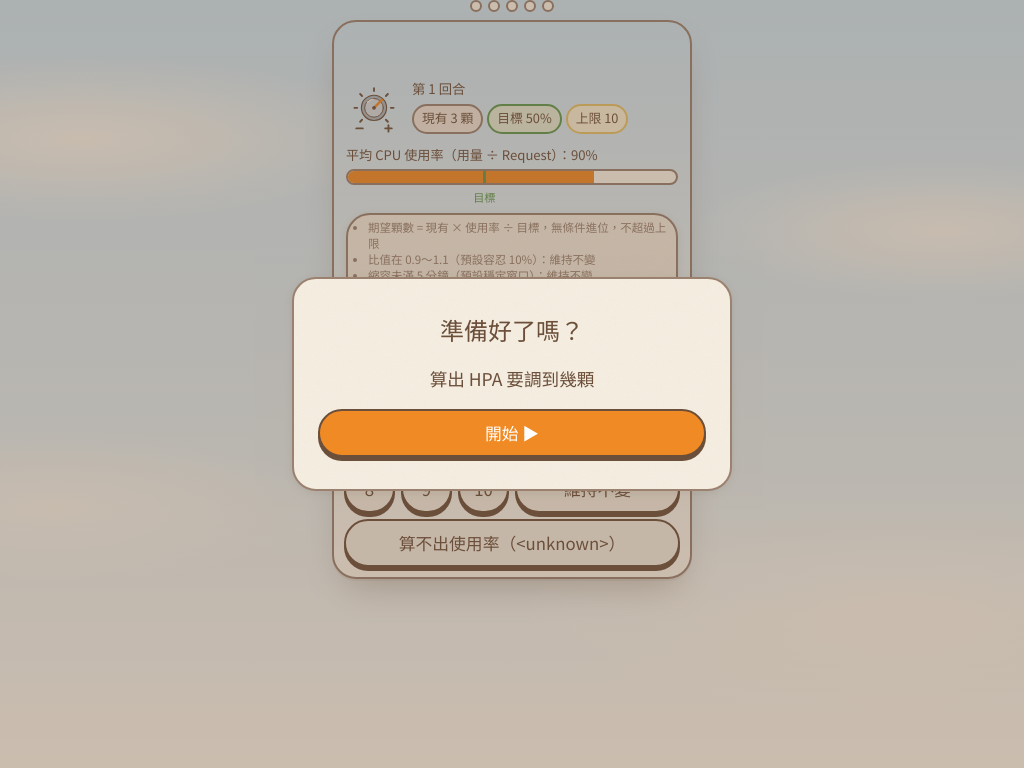
Test: Day26Game › 答錯 2 回合就失敗，再玩一次回到第 1 回合
Click the button with test id "shell-start".
click(512, 433)  # box [318,409,706,457]
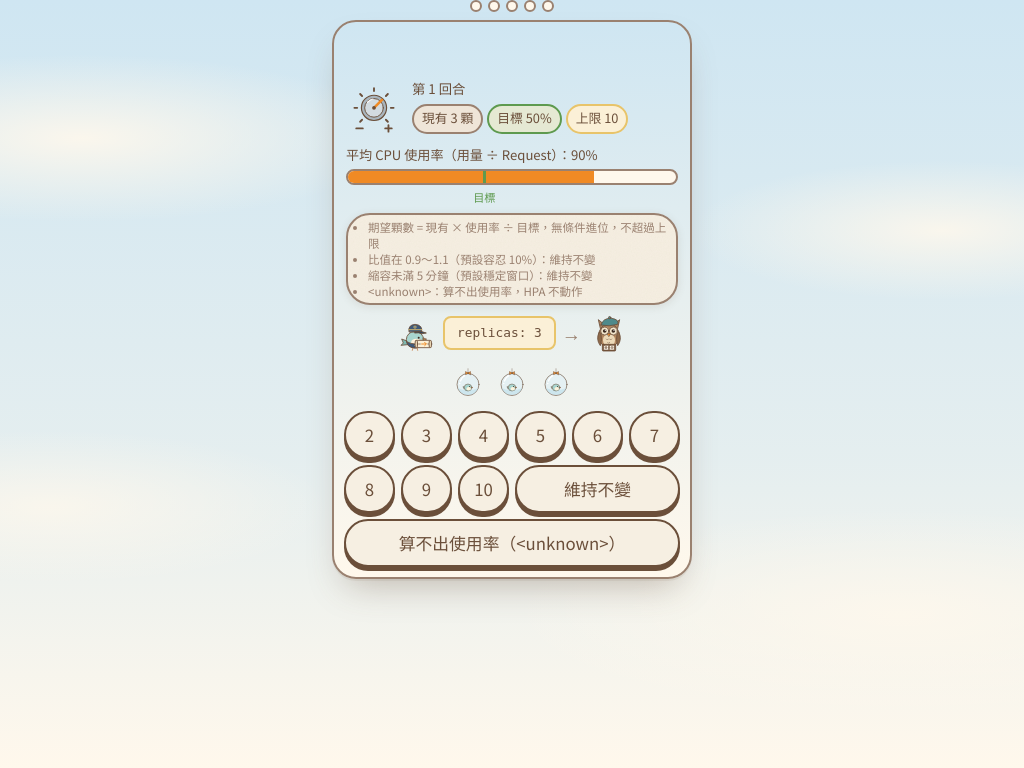
Click the button "5".
click(540, 435)  # box [515,411,566,459]
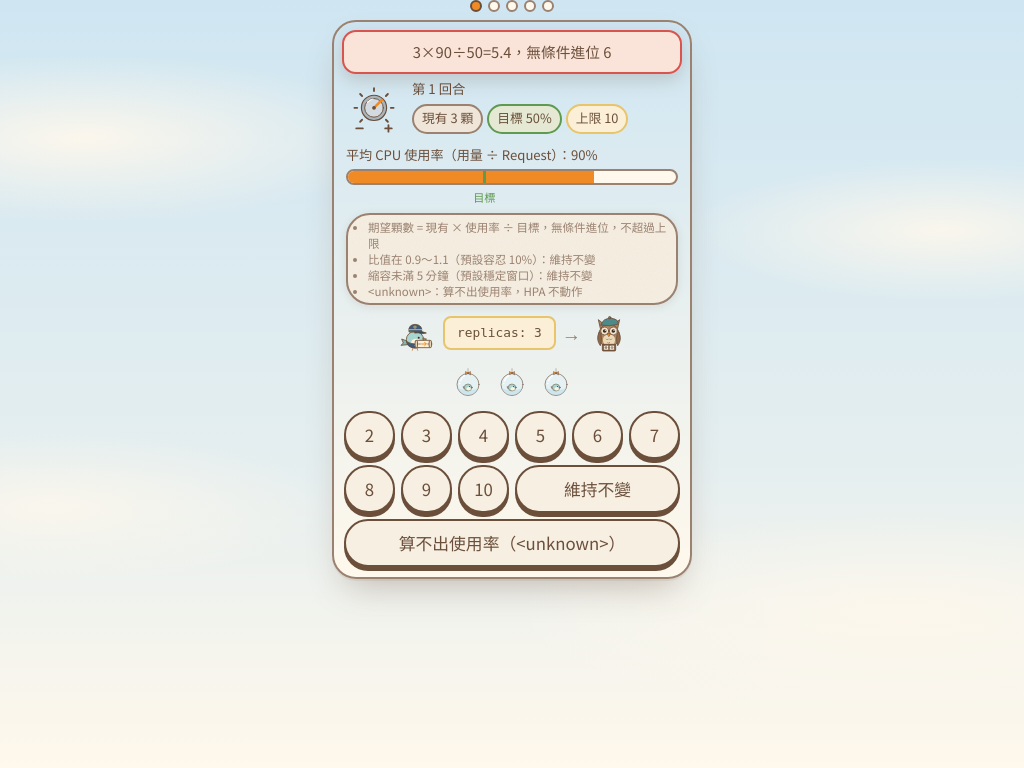
Click the button "6".
click(598, 435)  # box [572,411,623,459]
Wait 2500 ms
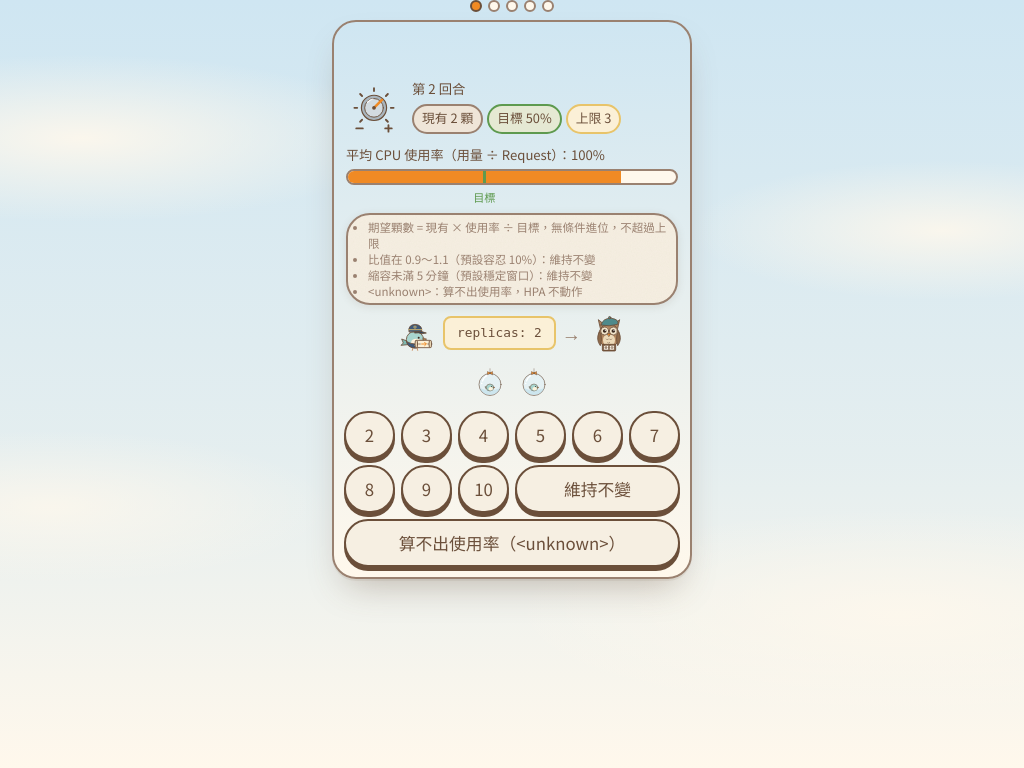
Click the button "4".
click(484, 435)  # box [458,411,509,459]
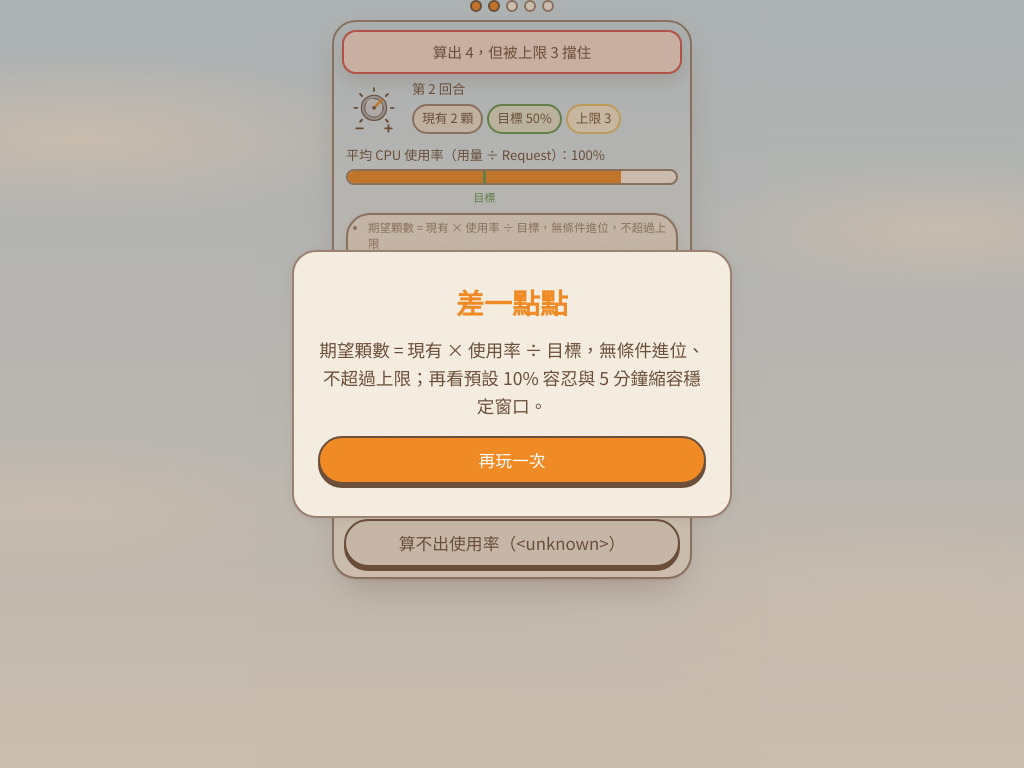
expect the button with test id "shell-retry" is shown: met
Click the button with test id "shell-retry".
click(512, 460)  # box [318,436,706,484]
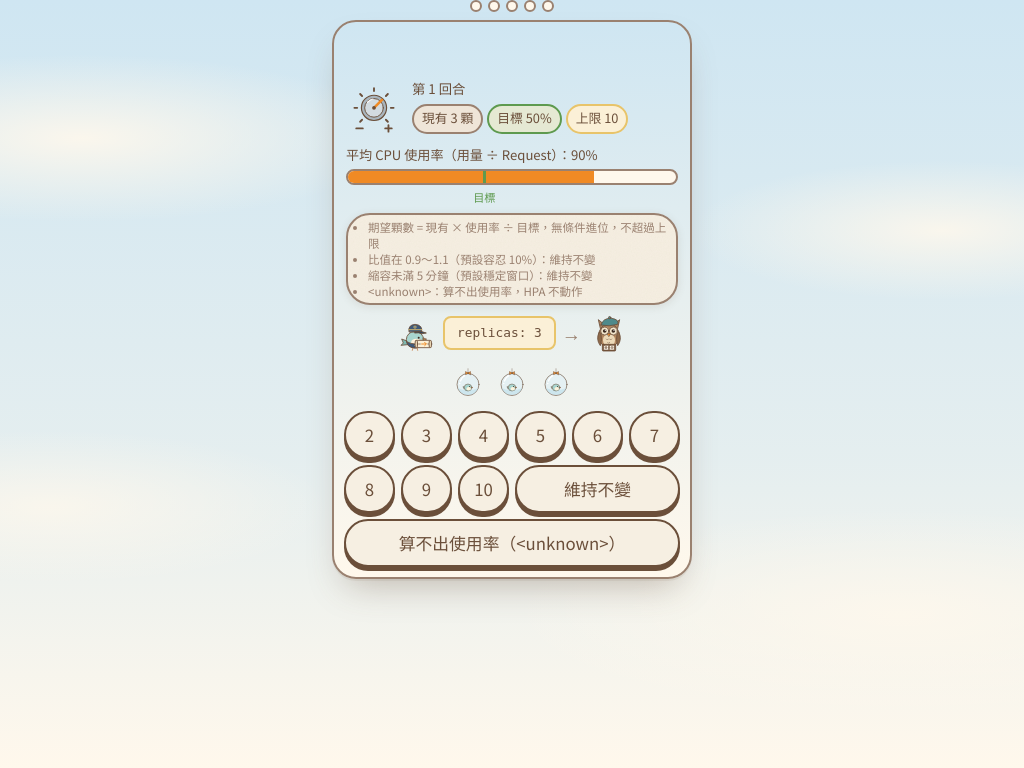
expect the text with test id "round" shows "1": met, box [412,79,465,98]
